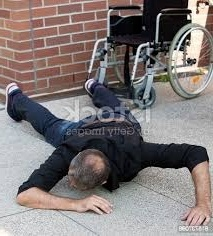fall: (6, 80, 210, 227)
